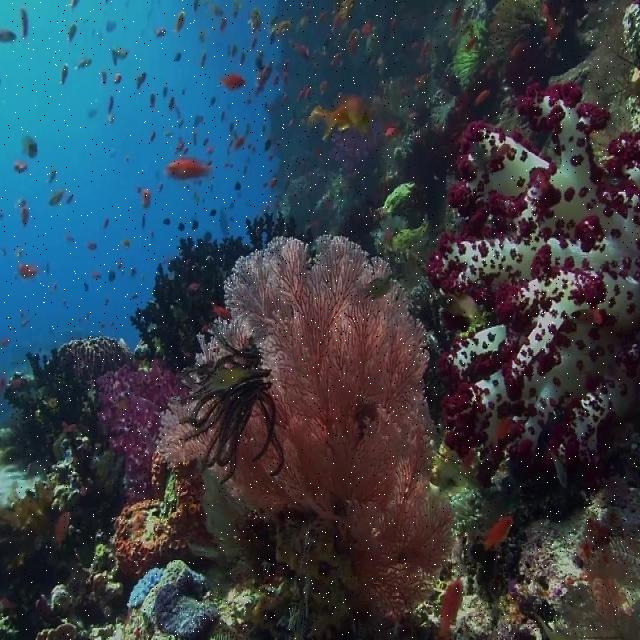fish: (305, 99, 369, 140), (166, 157, 211, 177)
reefs: (158, 235, 453, 620), (429, 82, 639, 490), (129, 214, 315, 369), (97, 361, 188, 503), (115, 466, 219, 571), (128, 560, 220, 635)
